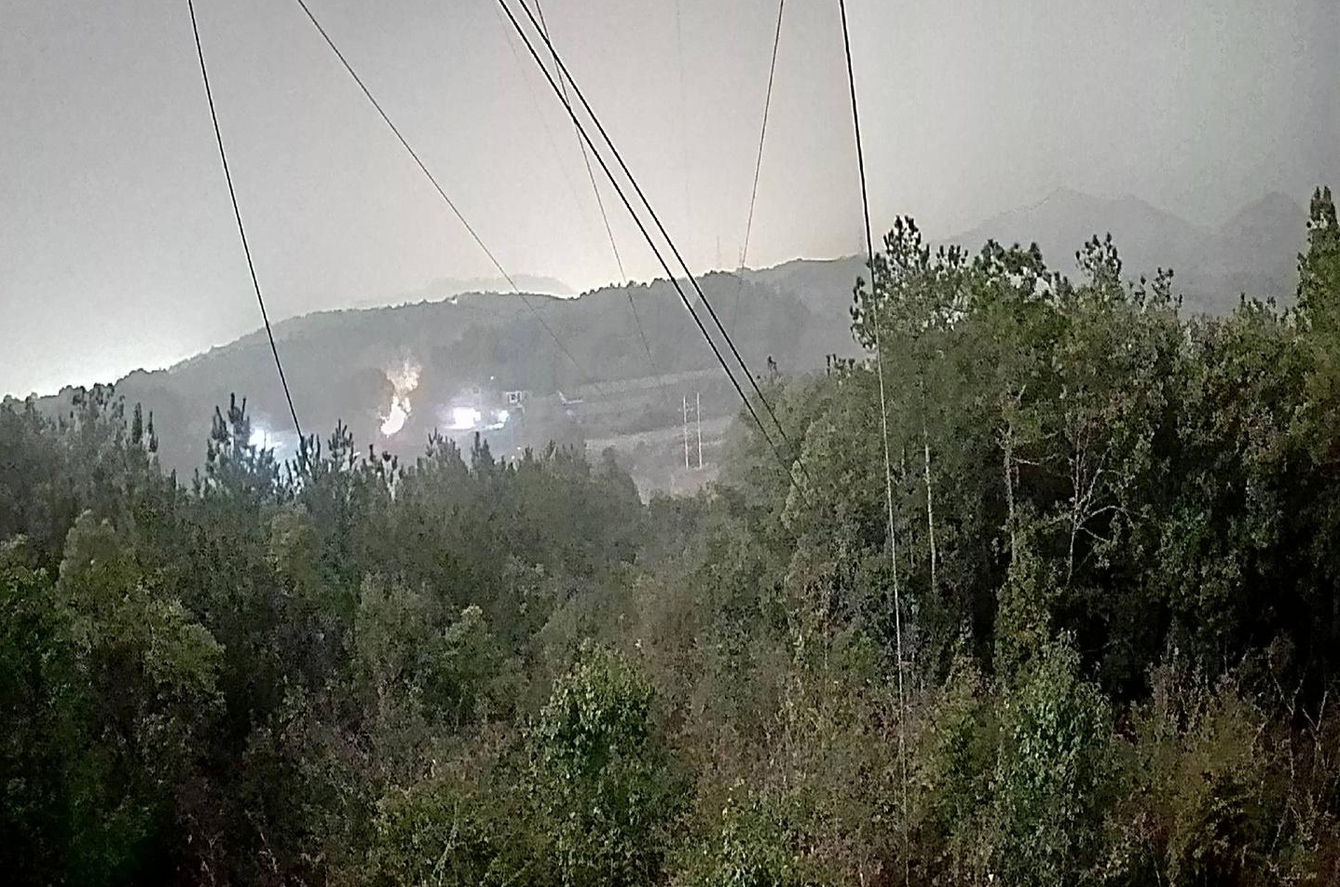烟雾: (371, 344, 422, 439)
